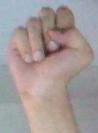S: (2, 4, 98, 83)
